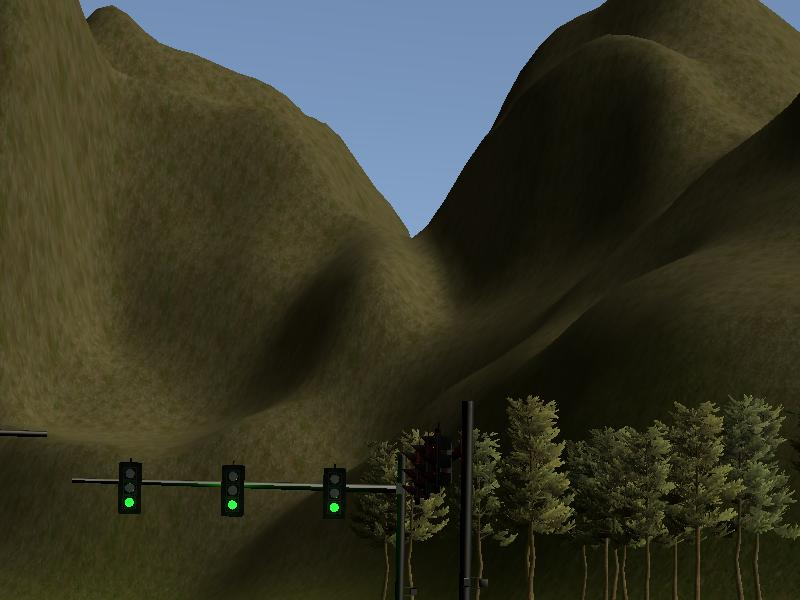green: (118, 461, 143, 514), (220, 464, 245, 517), (323, 465, 348, 518)
